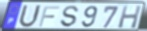7: (102, 5, 120, 29)
9: (82, 5, 99, 28)
F: (37, 6, 61, 28)
H: (117, 5, 143, 30)
S: (59, 5, 80, 28)
U: (17, 4, 43, 29)
